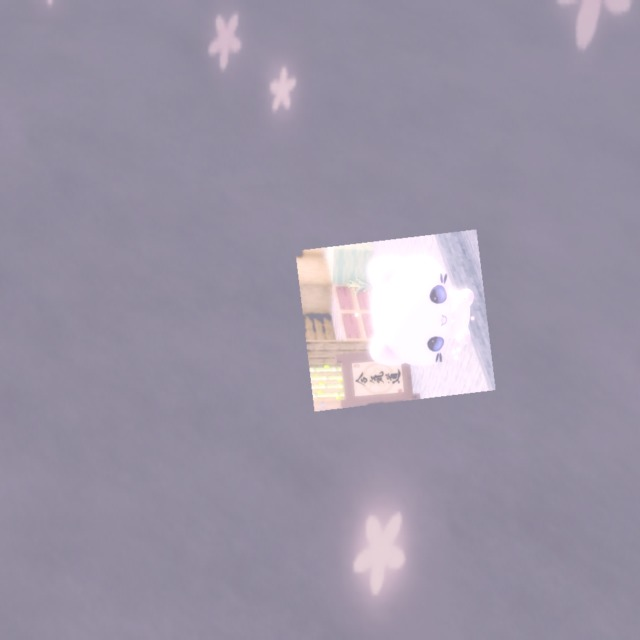urso_branco: (295, 229, 496, 412)
